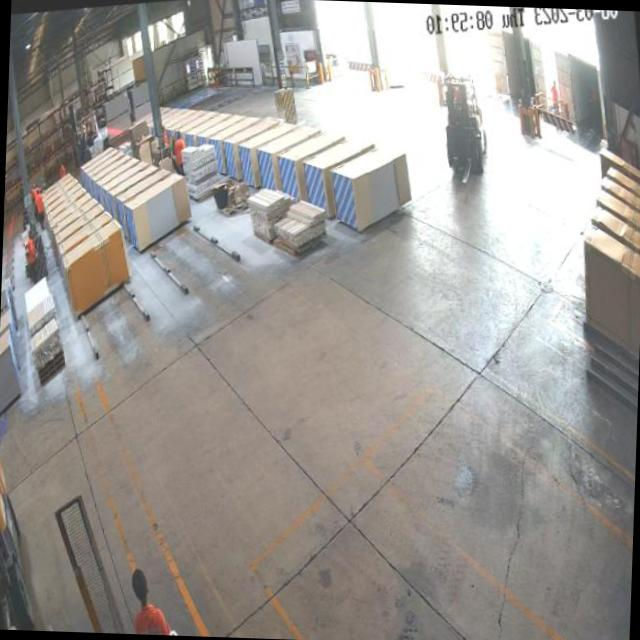forklift: (0, 401, 42, 630), (432, 64, 494, 190)
person: (123, 560, 186, 636), (22, 226, 40, 284), (33, 186, 45, 228), (172, 130, 185, 164), (548, 80, 560, 110)
